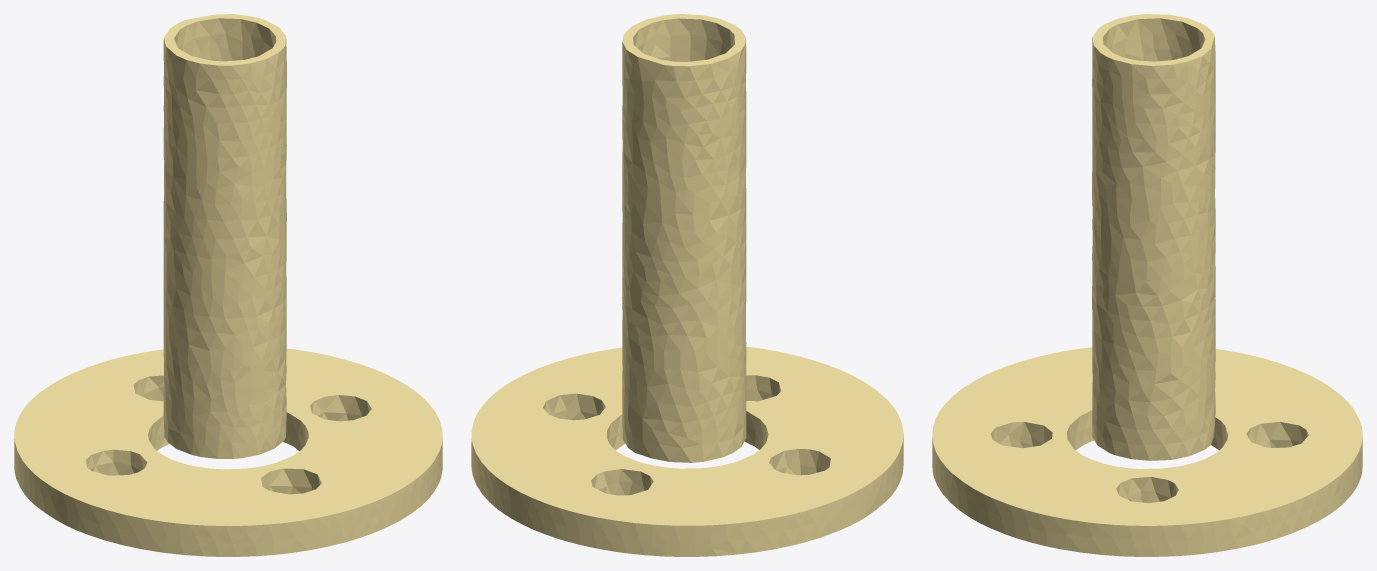
Rendered from input.gltf.
3 views of the same model, side by side, from view 1: azimuth 30°, elevation 25°; view 2: azimuth 150°, elevation 25°; view 3: azimuth 270°, elevation 25° (orthographic).
Parts seen in each view (by area): view 1: Renderer Node; view 2: Renderer Node; view 3: Renderer Node.
Part boxes in pixels (x1=…): Renderer Node: x1=14, y1=14, x2=442, y2=556; Renderer Node: x1=471, y1=14, x2=903, y2=556; Renderer Node: x1=932, y1=14, x2=1362, y2=556.
Size of the model in its own units: 0.6866 by 0.75 by 0.6867.
